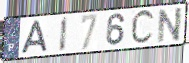6: (106, 12, 126, 47)
7: (80, 14, 101, 51)
A: (19, 19, 49, 55)
C: (129, 7, 156, 48)
I: (58, 16, 69, 53)
N: (157, 6, 184, 44)
